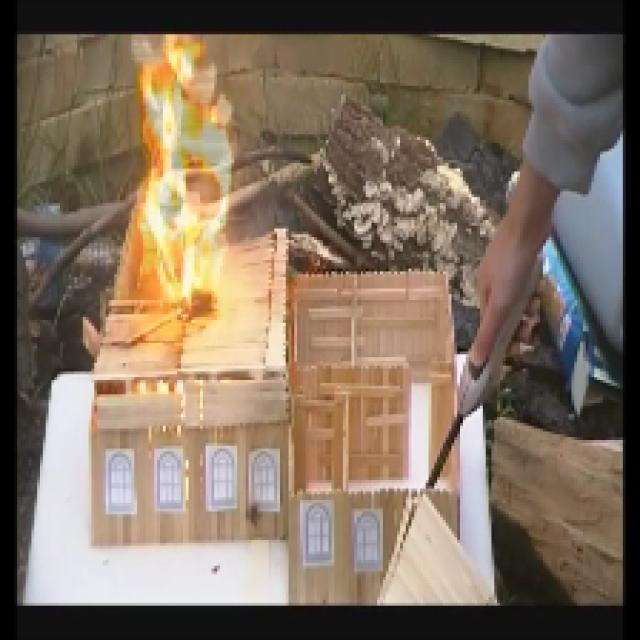Fire: (128, 30, 229, 328)
